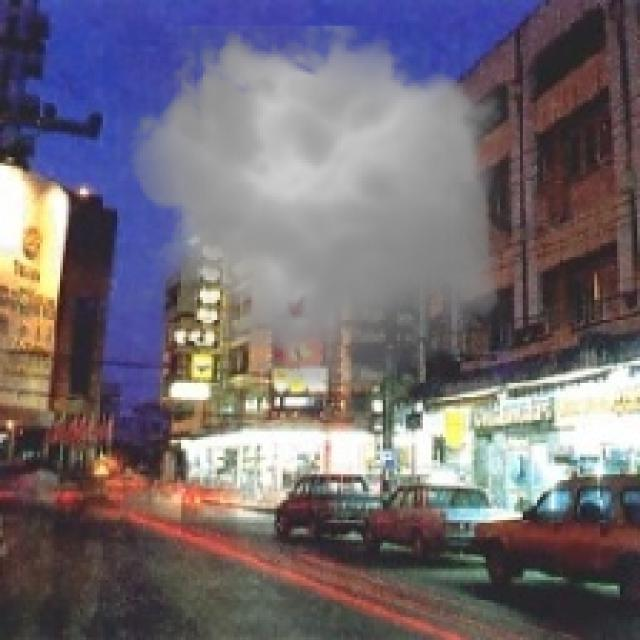smoke: (114, 8, 520, 403)
